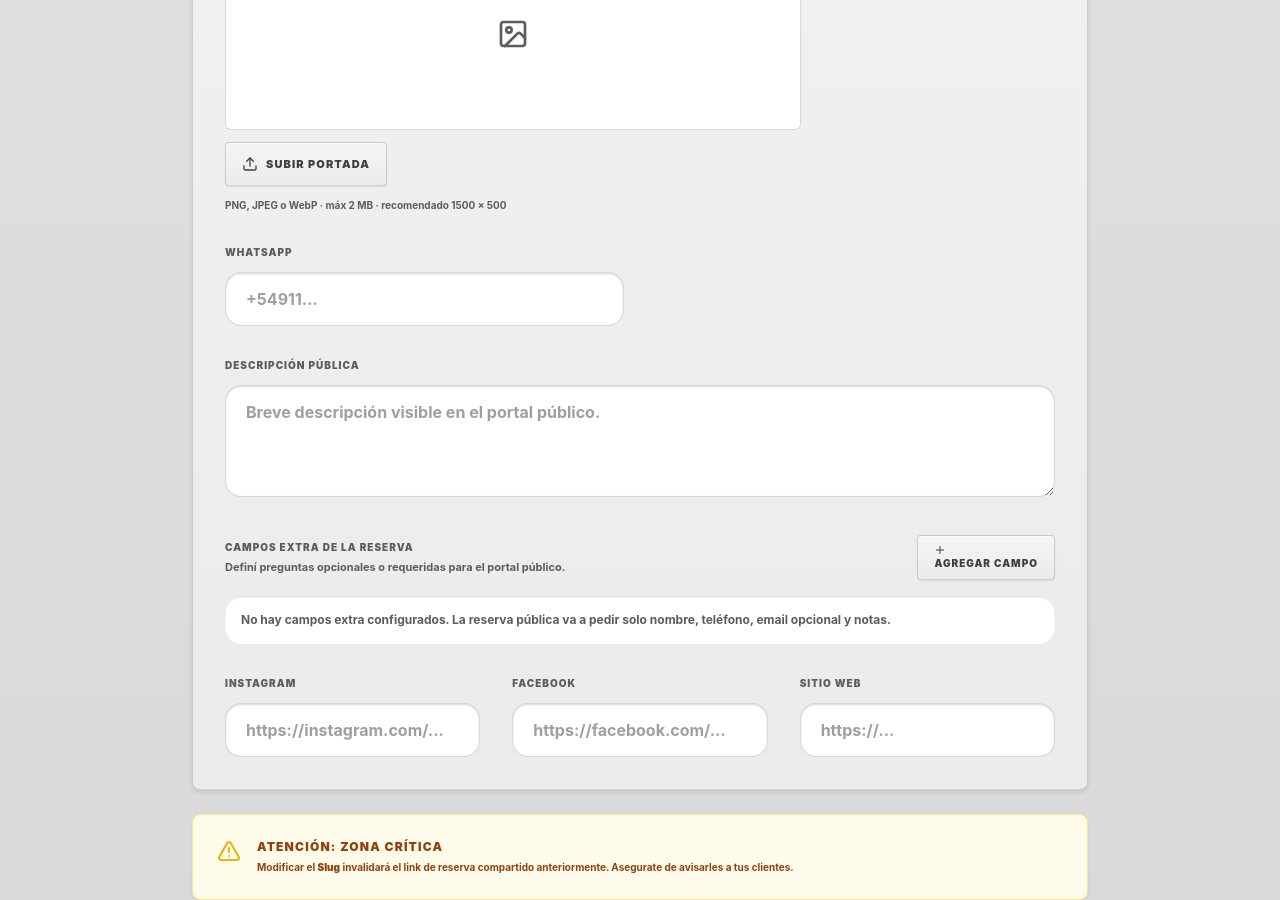
Test: Settings - identidad y campos extra › "Agregar campo" agrega campo_1 vacio
(page scrolled)
expect the text "No hay campos extra configurados" is shown: met, box left=241, top=612, right=891, bottom=627
Click the button "Agregar campo": [986, 558] box left=918, top=535, right=1055, bottom=580
(page scrolled)
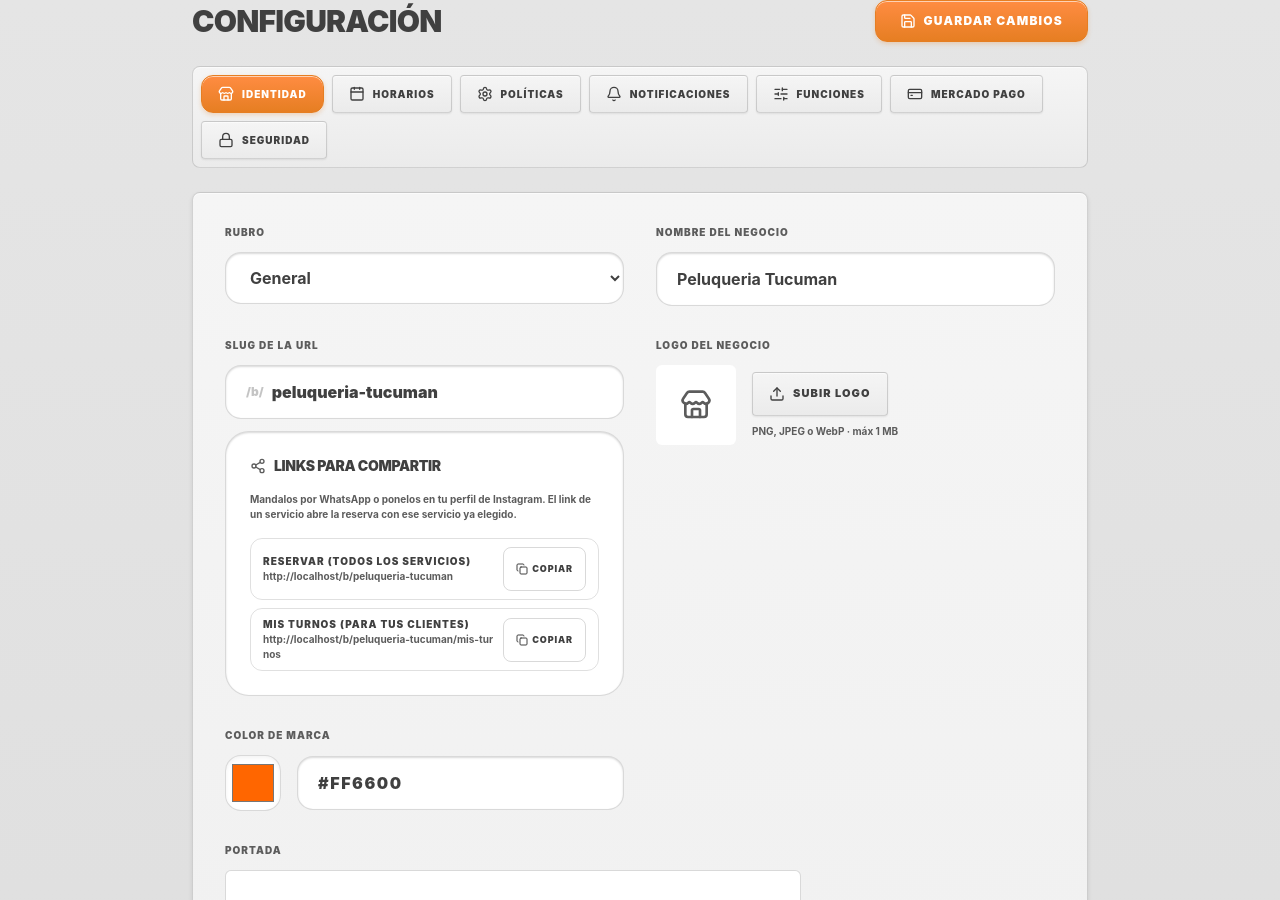
Click the button "Guardar Cambios": [981, 21] box left=874, top=0, right=1088, bottom=42
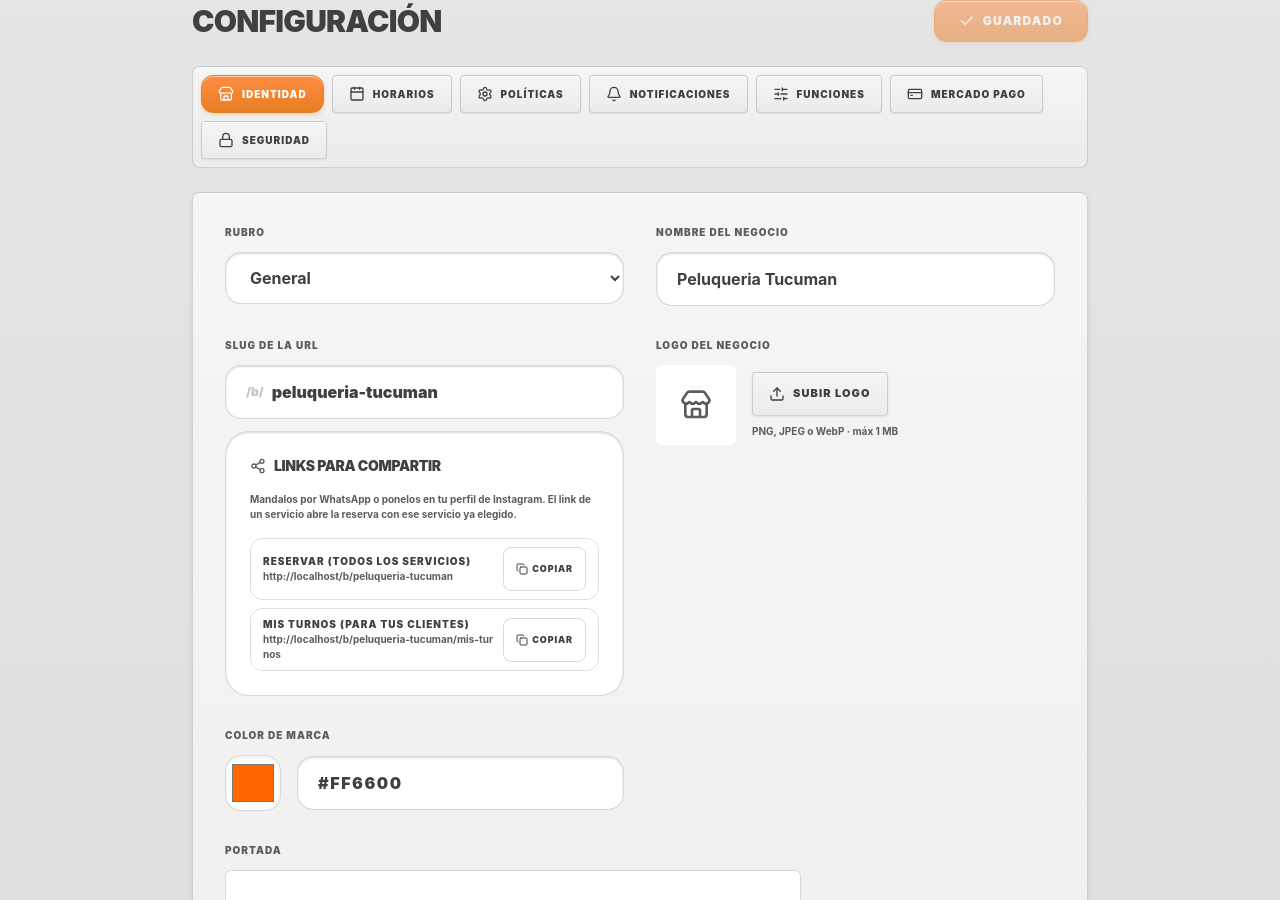
expect the button "Guardado" is shown: met, box left=934, top=0, right=1088, bottom=42
